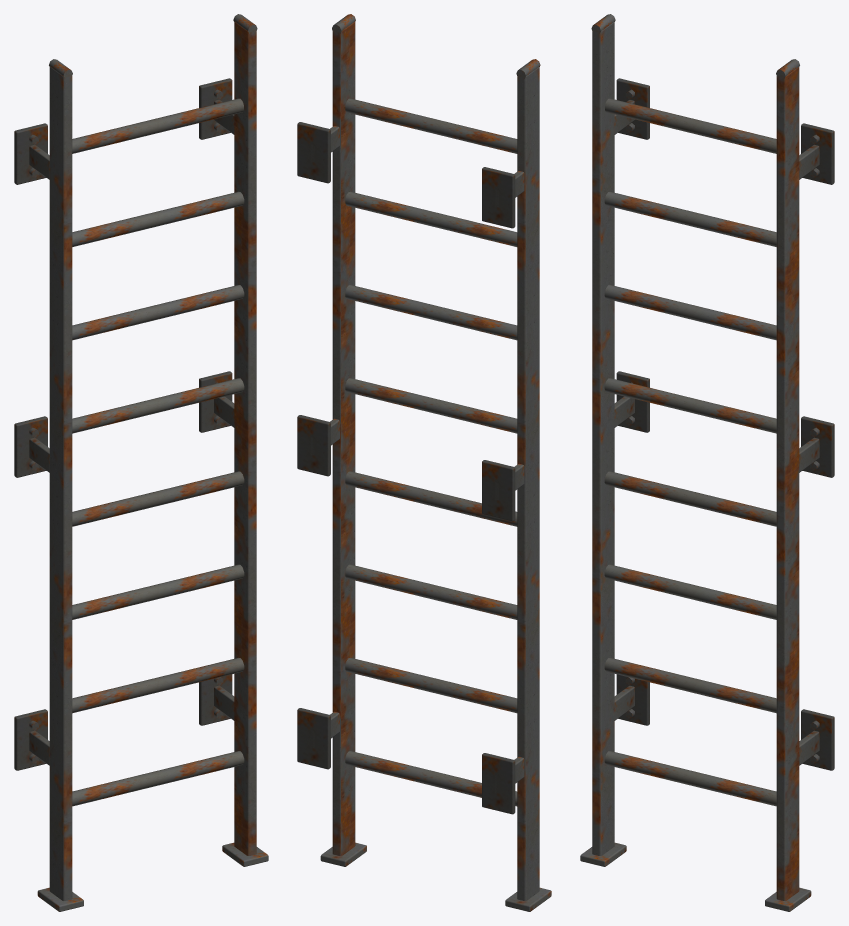
The model's file is prop_ladder.glb.
3 renders of one model, left to right at view 1: azimuth 30°, elevation 25°; view 2: azimuth 150°, elevation 25°; view 3: azimuth 330°, elevation 25°, orthographic.
Parts seen in each view (by area): view 1: prop; view 2: prop; view 3: prop.
Boxes of the visible parts, x1=… form: prop: x1=14, y1=14, x2=268, y2=911; prop: x1=297, y1=14, x2=551, y2=911; prop: x1=580, y1=14, x2=834, y2=911.
Size of what is drawn, in the model's own units: 0.6801 by 2.52 by 0.23.
Materials: 1 (1 with a texture image).
